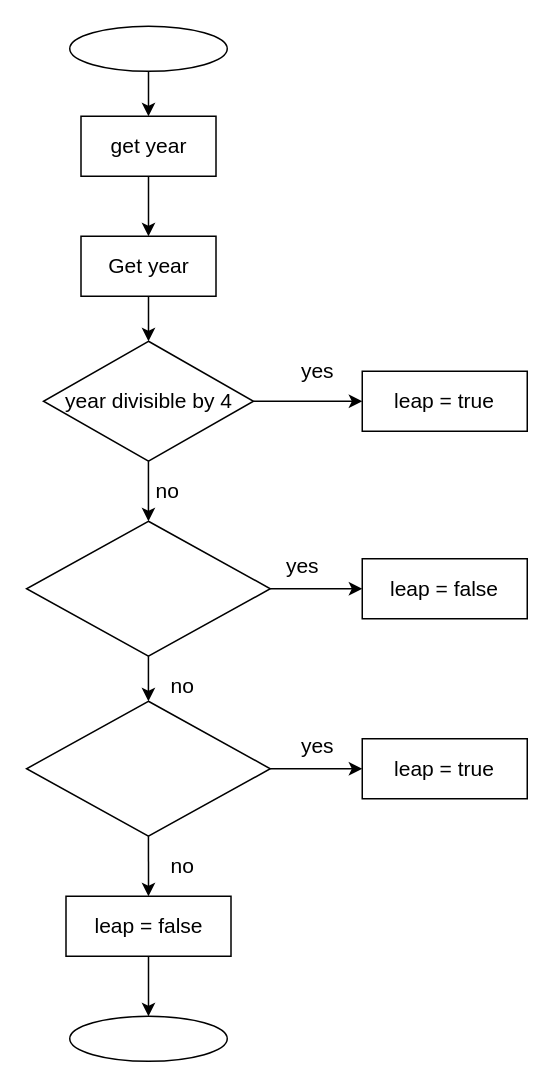
Some shapes in this 554 by 1088 pixel diagram are drawn without their labels. Each missing label, with the centre of its shape:
end: pixel 147 1038
start: pixel 147 48
year divisible by 100: pixel 147 588
year divisible by 400: pixel 147 768
